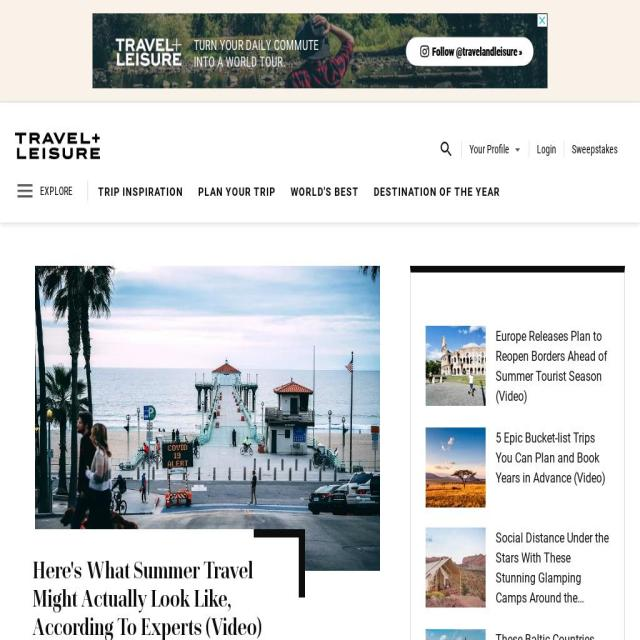button: (30, 266, 380, 640), (15, 133, 431, 159), (426, 326, 496, 407), (426, 528, 496, 609), (426, 428, 496, 508), (469, 141, 522, 157), (426, 629, 496, 640)
heading: (0, 102, 640, 222), (32, 555, 262, 640)
iframe: (92, 13, 548, 88)
image: (35, 266, 380, 572), (426, 326, 486, 406), (426, 428, 486, 508), (426, 528, 486, 608), (15, 133, 101, 159), (426, 629, 486, 640)
link: (374, 184, 500, 198), (98, 204, 218, 218), (484, 204, 588, 218), (98, 184, 183, 198), (198, 184, 276, 198), (291, 184, 358, 198), (404, 204, 470, 218), (288, 204, 348, 218), (98, 224, 143, 238), (232, 204, 272, 218), (362, 204, 390, 218)
text: (496, 530, 608, 626), (496, 328, 608, 404), (496, 430, 606, 486), (495, 631, 606, 640), (572, 142, 617, 156), (470, 142, 510, 156), (613, 174, 625, 208), (537, 142, 556, 156)
